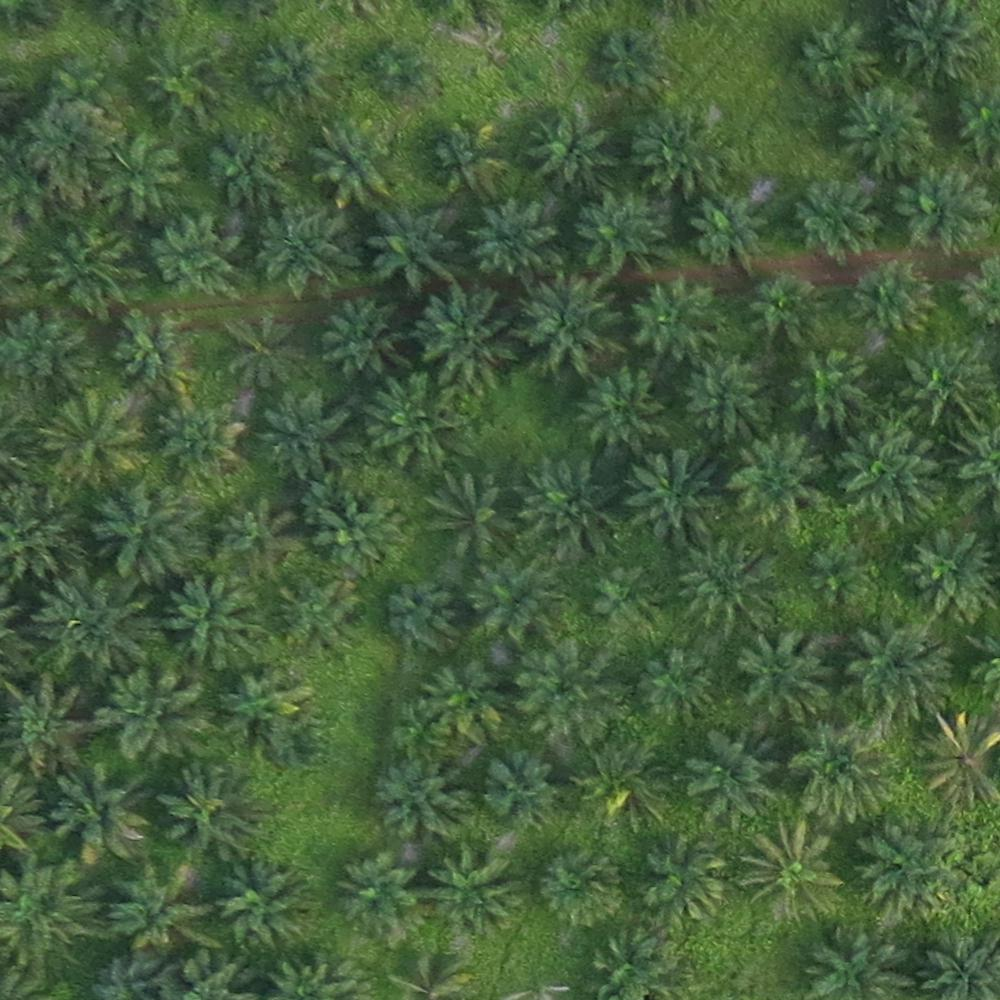Palm: (512, 274, 621, 375), (363, 374, 469, 476), (836, 423, 945, 522), (413, 284, 516, 388), (517, 459, 617, 564), (39, 573, 143, 670), (93, 487, 196, 583), (53, 767, 152, 866), (102, 867, 210, 955), (634, 106, 737, 198), (849, 623, 947, 719), (262, 388, 360, 483), (892, 163, 993, 255), (621, 450, 720, 543), (45, 392, 139, 488), (839, 84, 936, 177), (162, 765, 259, 858), (101, 668, 200, 758), (3, 864, 95, 960), (854, 821, 949, 913), (683, 732, 780, 822), (256, 203, 349, 295), (736, 434, 826, 529), (734, 628, 827, 719), (303, 492, 402, 576), (154, 394, 245, 485), (167, 577, 259, 667), (887, 1, 986, 84), (429, 850, 519, 941), (219, 860, 311, 948), (2, 678, 87, 773), (902, 340, 992, 428), (148, 210, 239, 297), (319, 295, 410, 382), (580, 368, 672, 454), (43, 228, 132, 316), (529, 110, 620, 196), (909, 525, 995, 616), (629, 275, 725, 356), (310, 119, 400, 204), (246, 34, 337, 116), (94, 137, 181, 222), (687, 355, 771, 443), (681, 546, 772, 627), (337, 852, 422, 938), (793, 20, 882, 102), (794, 176, 880, 260), (368, 205, 457, 285), (574, 193, 665, 271), (469, 197, 556, 277), (374, 760, 462, 839), (640, 841, 727, 920), (745, 274, 827, 351), (690, 196, 769, 264), (114, 318, 187, 390)
